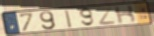7: (19, 12, 36, 33)
9: (39, 10, 57, 31), (79, 8, 96, 27)
H: (114, 4, 138, 25)
I: (64, 9, 74, 29)
Z: (95, 7, 118, 26)
